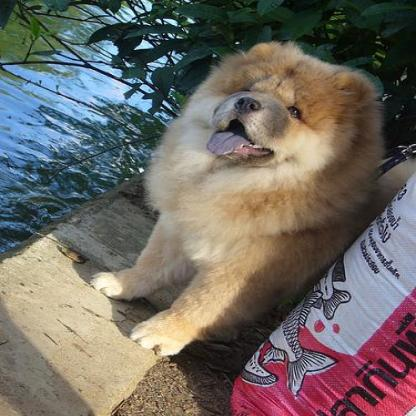chow: (86, 37, 390, 358)
